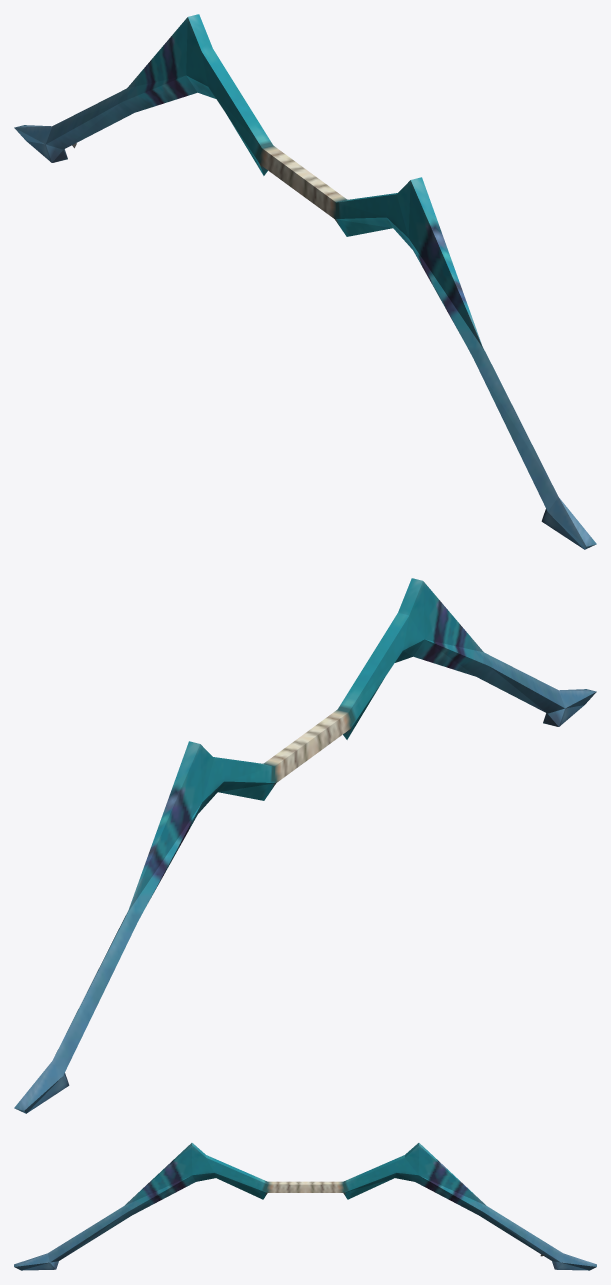
Rendered from Chameleon_standardBow_bow.obj.
3 views of the same model, one above another, from view 1: azimuth 30°, elevation 25°; view 2: azimuth 150°, elevation 25°; view 3: azimuth 270°, elevation 25° (orthographic). The views are drawn at different scales.
Visible parts, largest first — view 1: Chameleon_standardBow_tri [bow]; view 2: Chameleon_standardBow_tri [bow]; view 3: Chameleon_standardBow_tri [bow].
Part boxes in pixels (x1,y1,x2,y2): Chameleon_standardBow_tri [bow]: (14,14,596,549); Chameleon_standardBow_tri [bow]: (14,578,596,1113); Chameleon_standardBow_tri [bow]: (14,1143,596,1270).
Bounding box in the file's own units: 0.027 × 0.3958 × 1.65.
1 material, 1 textured.
